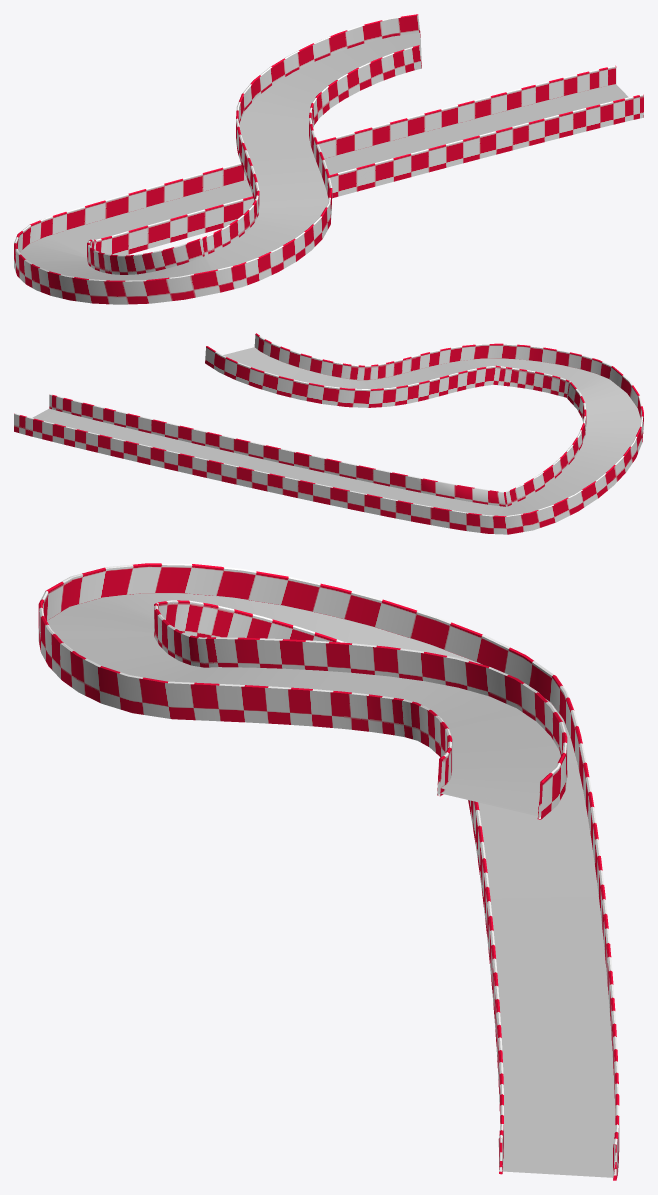
File: aws_Track_01_visual.DAE
3 views of the same model, one above another, from view 1: azimuth 30°, elevation 25°; view 2: azimuth 150°, elevation 25°; view 3: azimuth 270°, elevation 25° (orthographic). The views are drawn at different scales.
Parts seen in each view (by area): view 1: aws_Track_01_visual; view 2: aws_Track_01_visual; view 3: aws_Track_01_visual.
Boxes of the visible parts, x1,y1,x2,y2 form: aws_Track_01_visual: (14, 14, 643, 304); aws_Track_01_visual: (14, 333, 643, 534); aws_Track_01_visual: (38, 563, 619, 1180).
Bounding box in the file's own units: 2185 × 1039 × 455.
